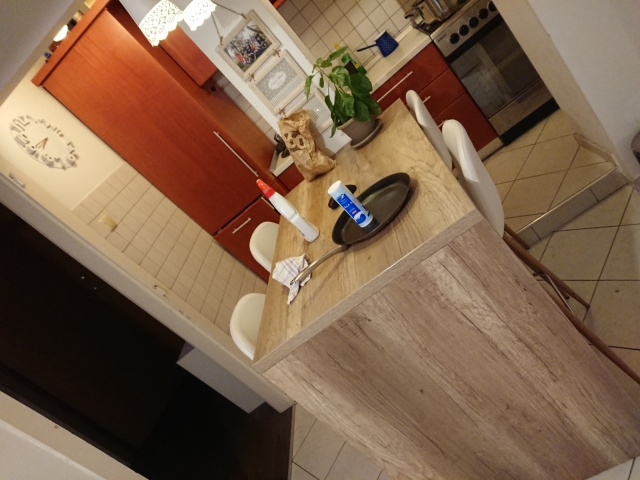Solana Pag Fine Sea Salt 250g: (324, 177, 379, 231)
